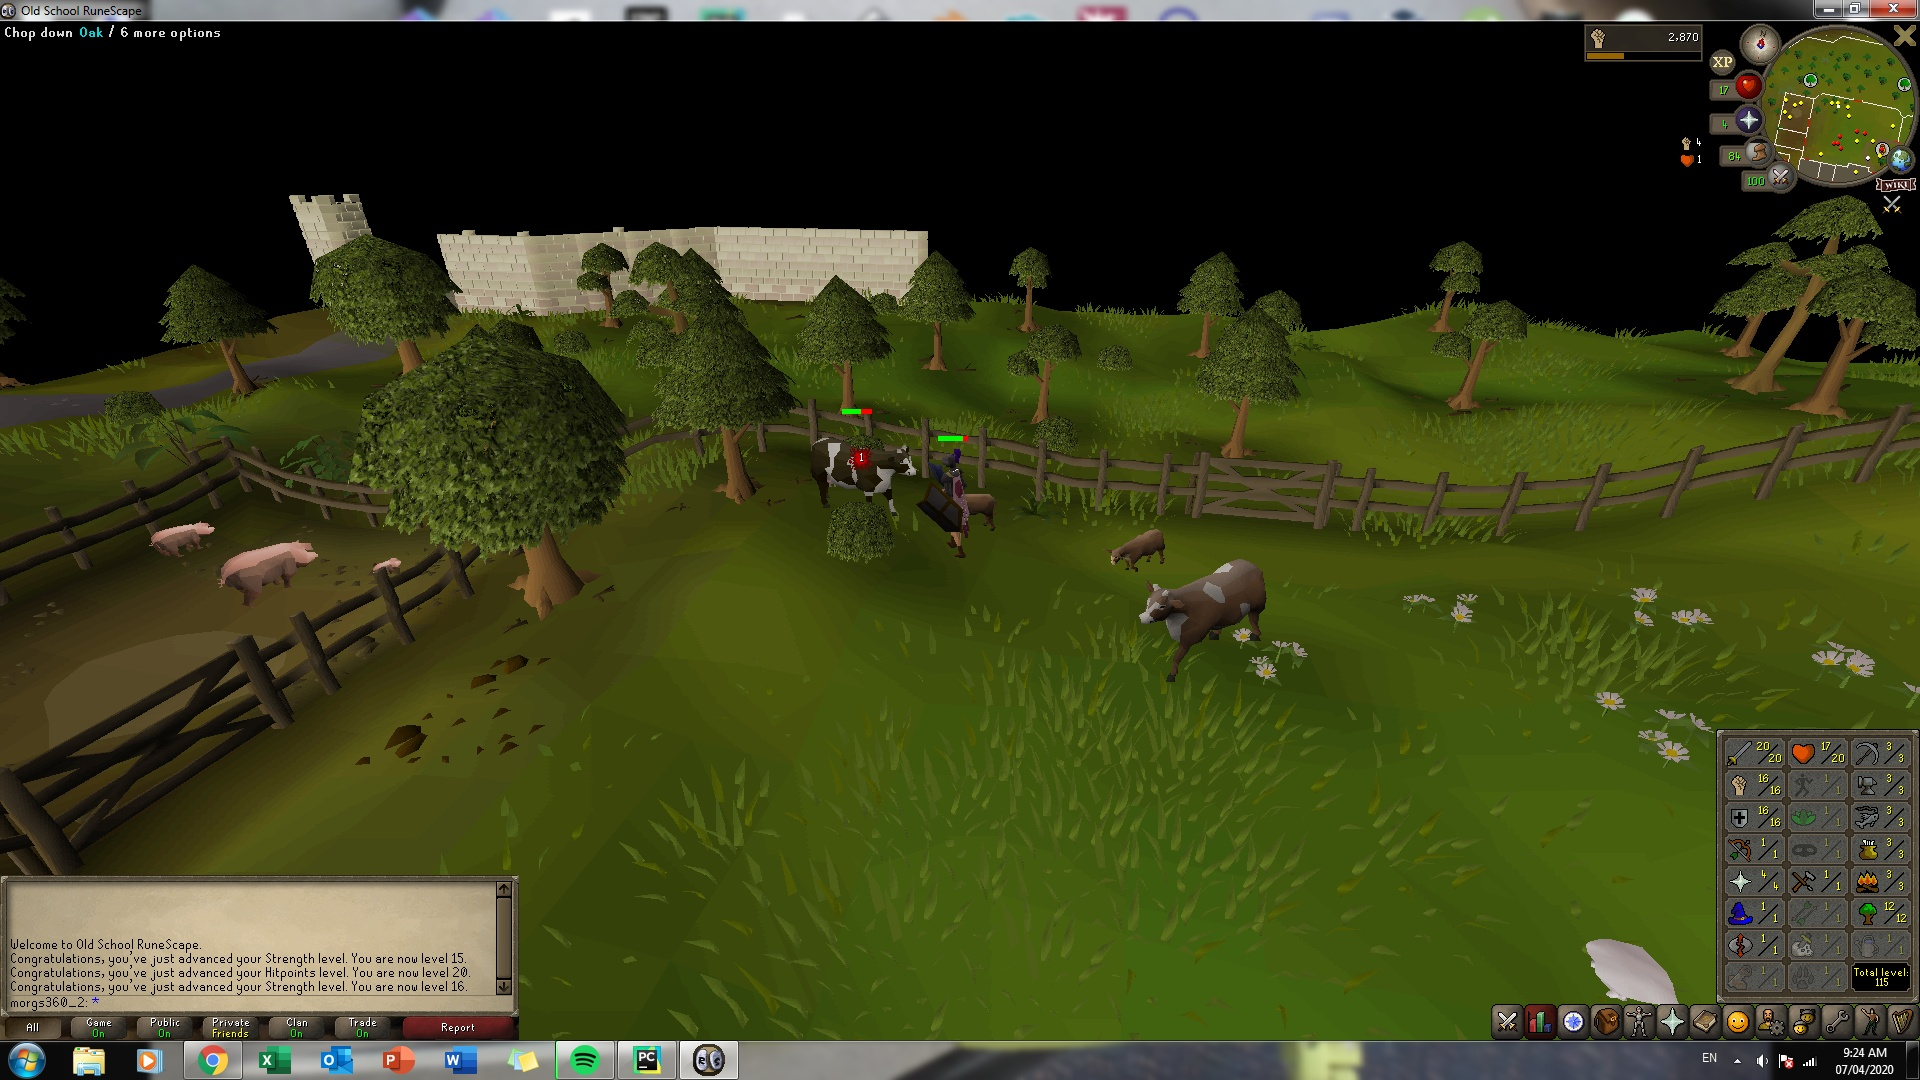cow: (1137, 555, 1270, 680), (810, 436, 920, 521)
